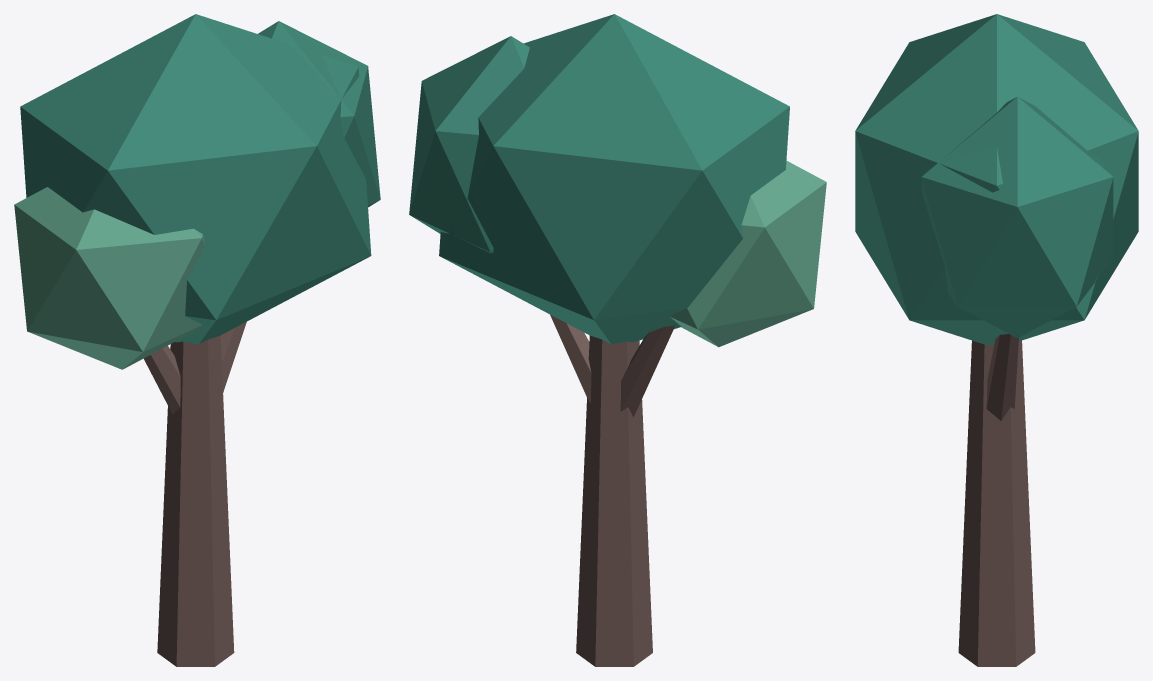
File: SM_ENV_Tree_001_Canopy.glb
The picture shows the model from 3 angles, left to right: view 1: azimuth 30°, elevation 25°; view 2: azimuth 150°, elevation 25°; view 3: azimuth 270°, elevation 25°; orthographic projection.
Visible parts, largest first — view 1: SM_ENV_Tree_001_Canopy; view 2: SM_ENV_Tree_001_Canopy; view 3: SM_ENV_Tree_001_Canopy.
Boxes of the visible parts, x1,y1,x2,y2 form: SM_ENV_Tree_001_Canopy: [14, 14, 380, 666]; SM_ENV_Tree_001_Canopy: [409, 14, 826, 666]; SM_ENV_Tree_001_Canopy: [855, 14, 1138, 666].
Bounding box in the file's own units: 1.65 × 2.75 × 1.11.
